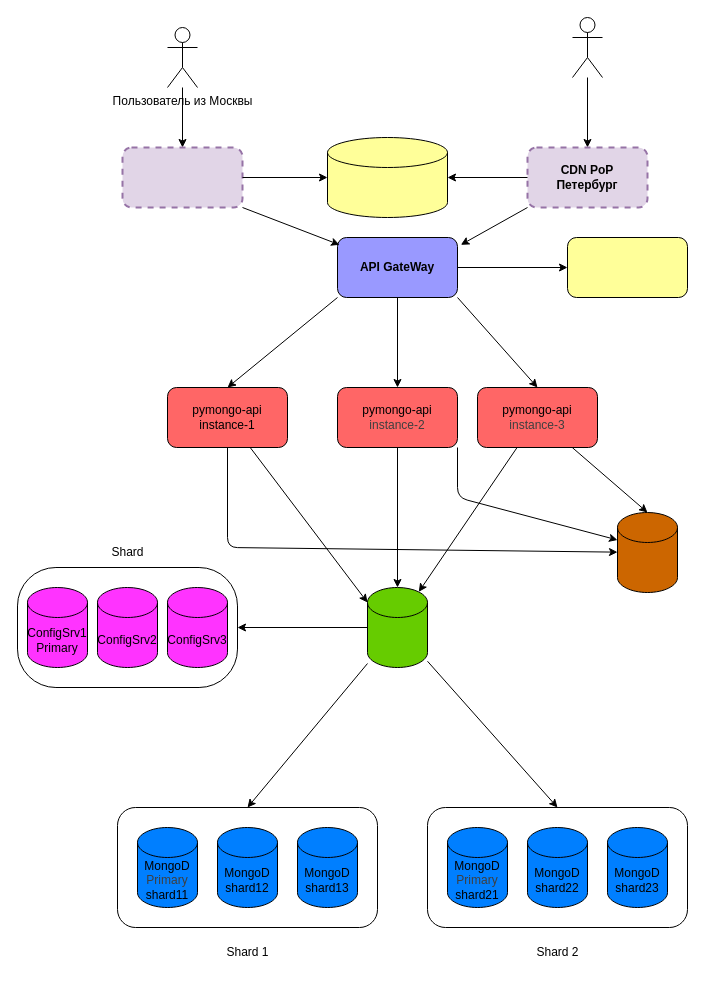
The diagram is 705 pixels wide and 985 high, and some of its shapes have lost their labels. The shapes that lost their labels are listed below. From the top down, each one's centre as x and y in pixels, then its label:
At point (587, 47): "Пользователь из Санкт-Петербурга".
At point (182, 177): "CDN PoP Москва".
At point (387, 177): "ObjectStorage".
At point (627, 267): "Consul Service Discovery".
At point (647, 552): "Redis Кэш".
At point (397, 627): "MongoS".
